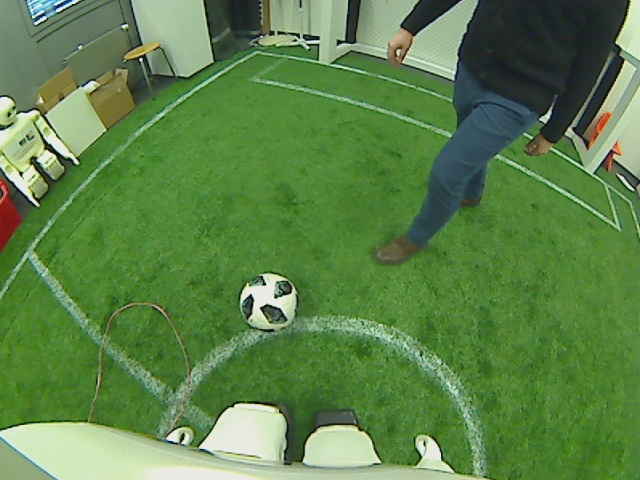ball: (237, 271, 298, 332)
